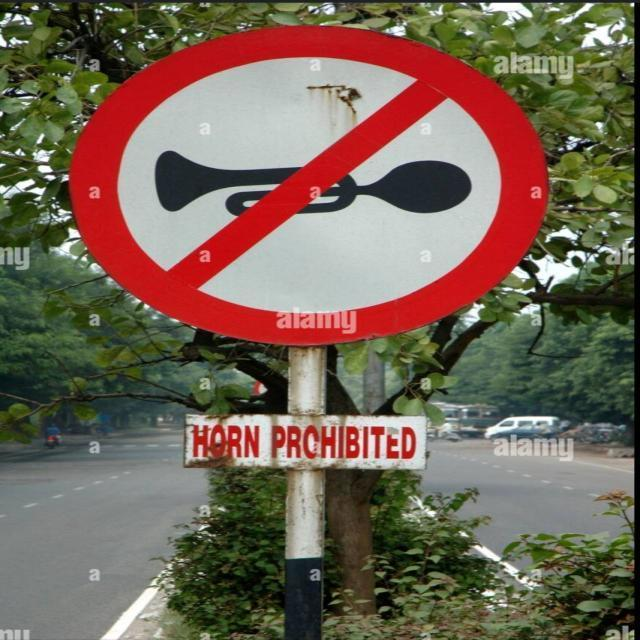horn prohibited: (68, 22, 552, 350)
